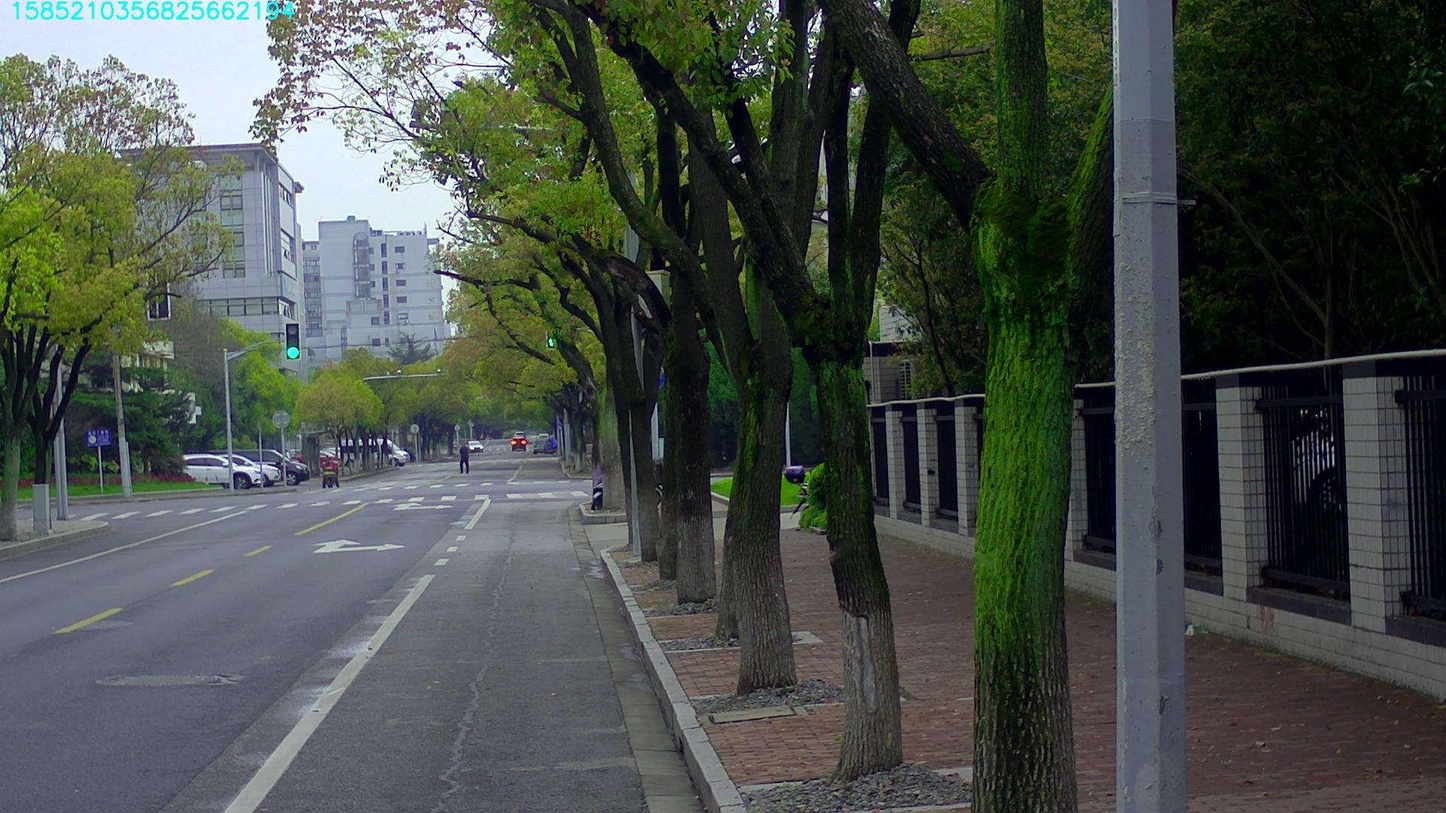green: (285, 321, 299, 358), (546, 328, 557, 349)
